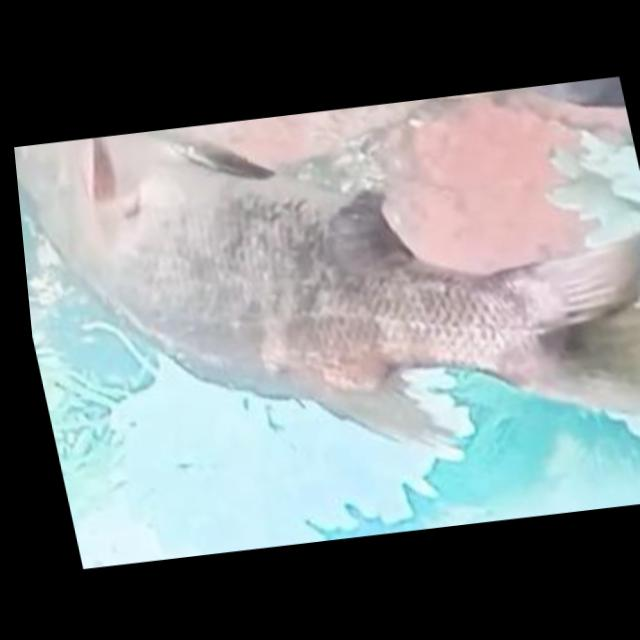Seabass: (7, 70, 640, 510)
